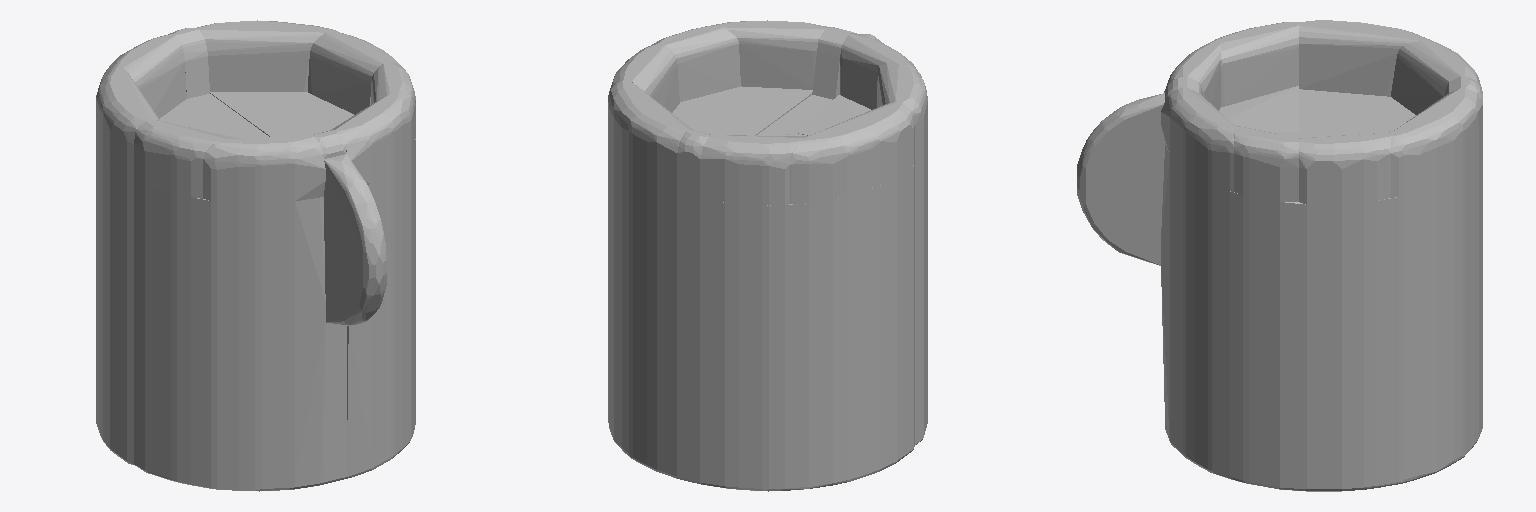
The robot description file, URDF, robot "root":
<?xml version="1.0"?>
<robot name="root">
  <link name="base_link">
    <visual>
      <origin xyz="0 0 0" rpy="0 0 0" />
      <geometry>
        <mesh filename="../meshes/unidex_sem_DrinkingUtensil-b7841572364fd9ce1249ffc39a0c3c0b_006.obj" scale="1.0000E+00 1.0000E+00 1.0000E+00" />
      </geometry>
      <material name="">
        <color rgba="7.50E-01 7.50E-01 7.50E-01 1" />
      </material>
    </visual>
    <collision>
      <origin xyz="0 0 0" rpy="0 0 0" />
      <geometry>
        <mesh filename="../meshes/unidex_sem_DrinkingUtensil-b7841572364fd9ce1249ffc39a0c3c0b_006.obj" scale="1.0000E+00 1.0000E+00 1.0000E+00" />
      </geometry>
    </collision>
  </link>
</robot>

--- Facts derived from the render (not from the file) ---
Views: 3 orthographic renders of the robot side by side, from view 1: azimuth 30°, elevation 25°; view 2: azimuth 150°, elevation 25°; view 3: azimuth 270°, elevation 25°.
Robot: root — 1 links, 0 joints (none); root link base_link; default pose: all joints at 0.
Visible links, largest first — view 1: base_link; view 2: base_link; view 3: base_link.
Link boxes in pixels (x1,y1,x2,y2): base_link: (96,20,415,491); base_link: (608,20,927,491); base_link: (1077,20,1482,491).
Size in the robot's own frame: 0.0675 by 0.0863 by 0.0807 metres.
1 mesh visuals loaded from 1 distinct referenced files (1 OBJ).
